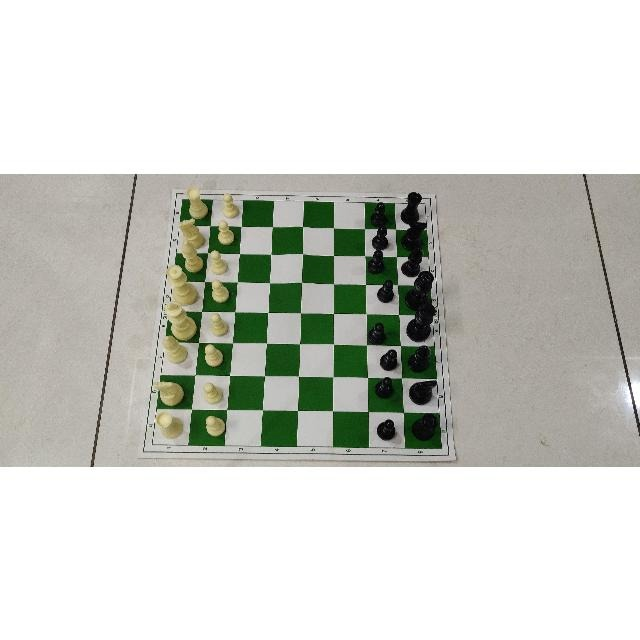black-bishop: (400, 246, 425, 274), (408, 343, 432, 370)
black-king: (406, 301, 438, 342)
black-knight: (399, 220, 426, 248), (409, 378, 437, 403)
black-pawn: (374, 375, 394, 398), (377, 278, 395, 302), (367, 248, 384, 273), (376, 418, 395, 440), (371, 224, 389, 247), (368, 321, 386, 344), (380, 347, 398, 369), (370, 200, 385, 225)
black-queen: (403, 269, 436, 305)
black-rook: (409, 411, 439, 441), (399, 188, 422, 222)
white-bishop: (162, 334, 188, 362), (180, 241, 203, 271)
white-king: (164, 300, 198, 338)
white-knight: (151, 379, 185, 405), (175, 215, 206, 242)
white-pawn: (209, 278, 232, 304), (202, 344, 226, 368), (218, 192, 240, 218), (208, 310, 231, 334), (209, 250, 231, 274), (205, 412, 226, 437), (216, 217, 236, 243), (201, 381, 224, 403)
white-queen: (166, 262, 198, 301)
white-rook: (154, 409, 185, 439), (185, 184, 207, 217)
